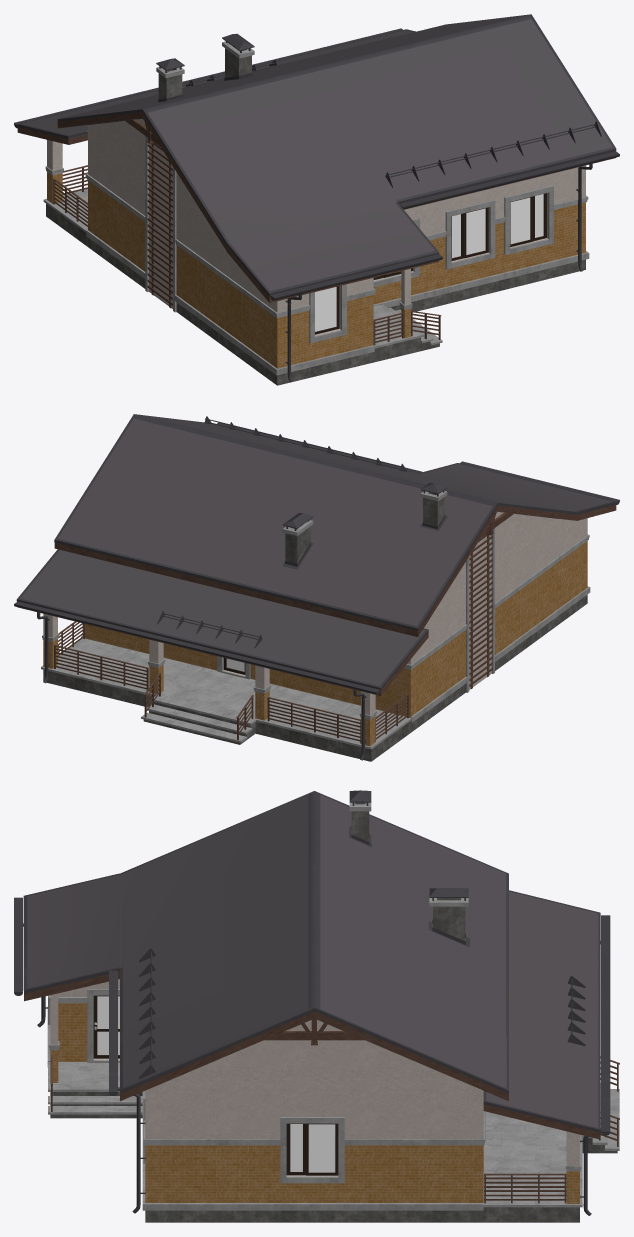
3 views of the same model, one above another, from view 1: azimuth 30°, elevation 25°; view 2: azimuth 150°, elevation 25°; view 3: azimuth 270°, elevation 25° (orthographic). The views are drawn at different scales.
Visible parts, largest first — view 1: Cottage_Free; view 2: Cottage_Free; view 3: Cottage_Free.
Boxes of the visible parts, bbox=[...] form: Cottage_Free: bbox=[14, 14, 619, 385]; Cottage_Free: bbox=[14, 414, 619, 761]; Cottage_Free: bbox=[14, 790, 619, 1222].
Bounding box in the file's own units: 12.44 × 6.75 × 14.65.
Materials: 1 (1 with a texture image).
